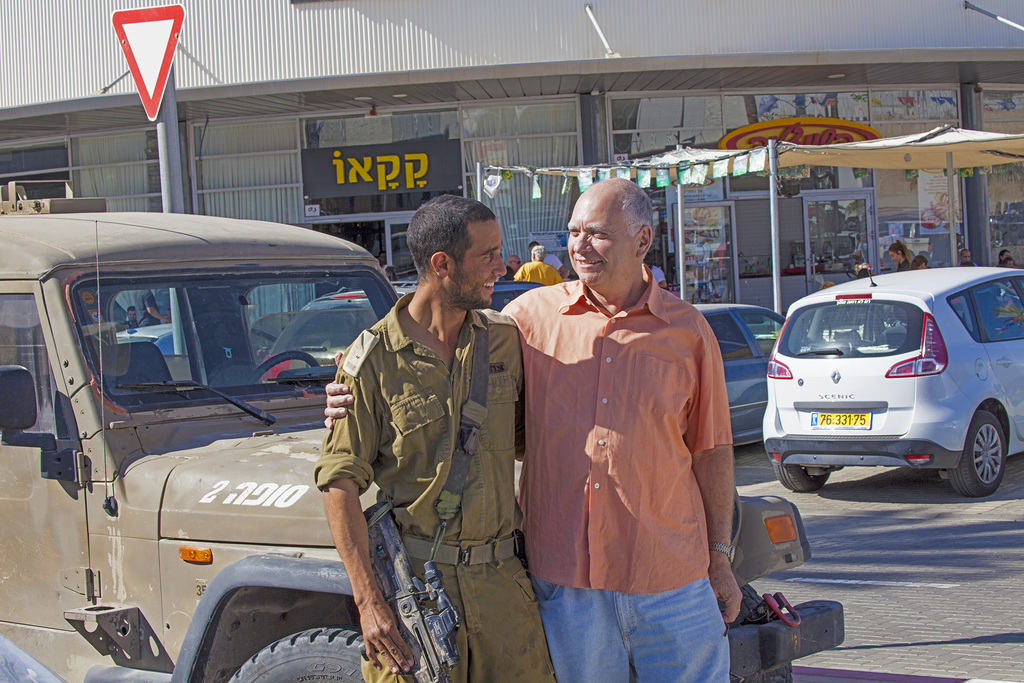Car: (755, 271, 1020, 508), (257, 282, 547, 383), (691, 304, 829, 449), (113, 320, 193, 361)
